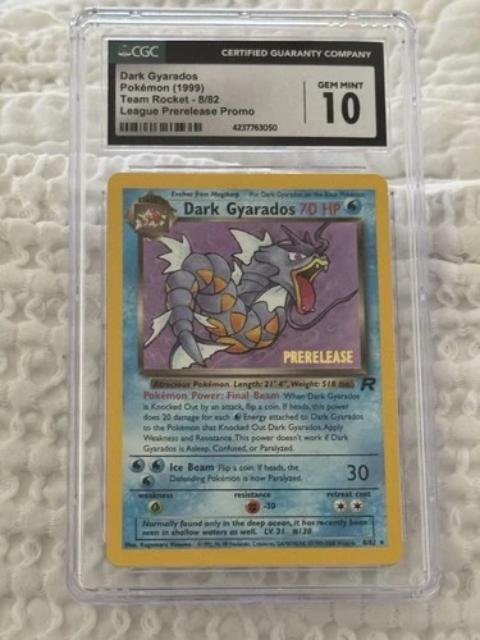Card: (102, 168, 407, 571)
Name: (179, 199, 301, 221)
